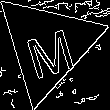M_N: (19, 14, 77, 77)
